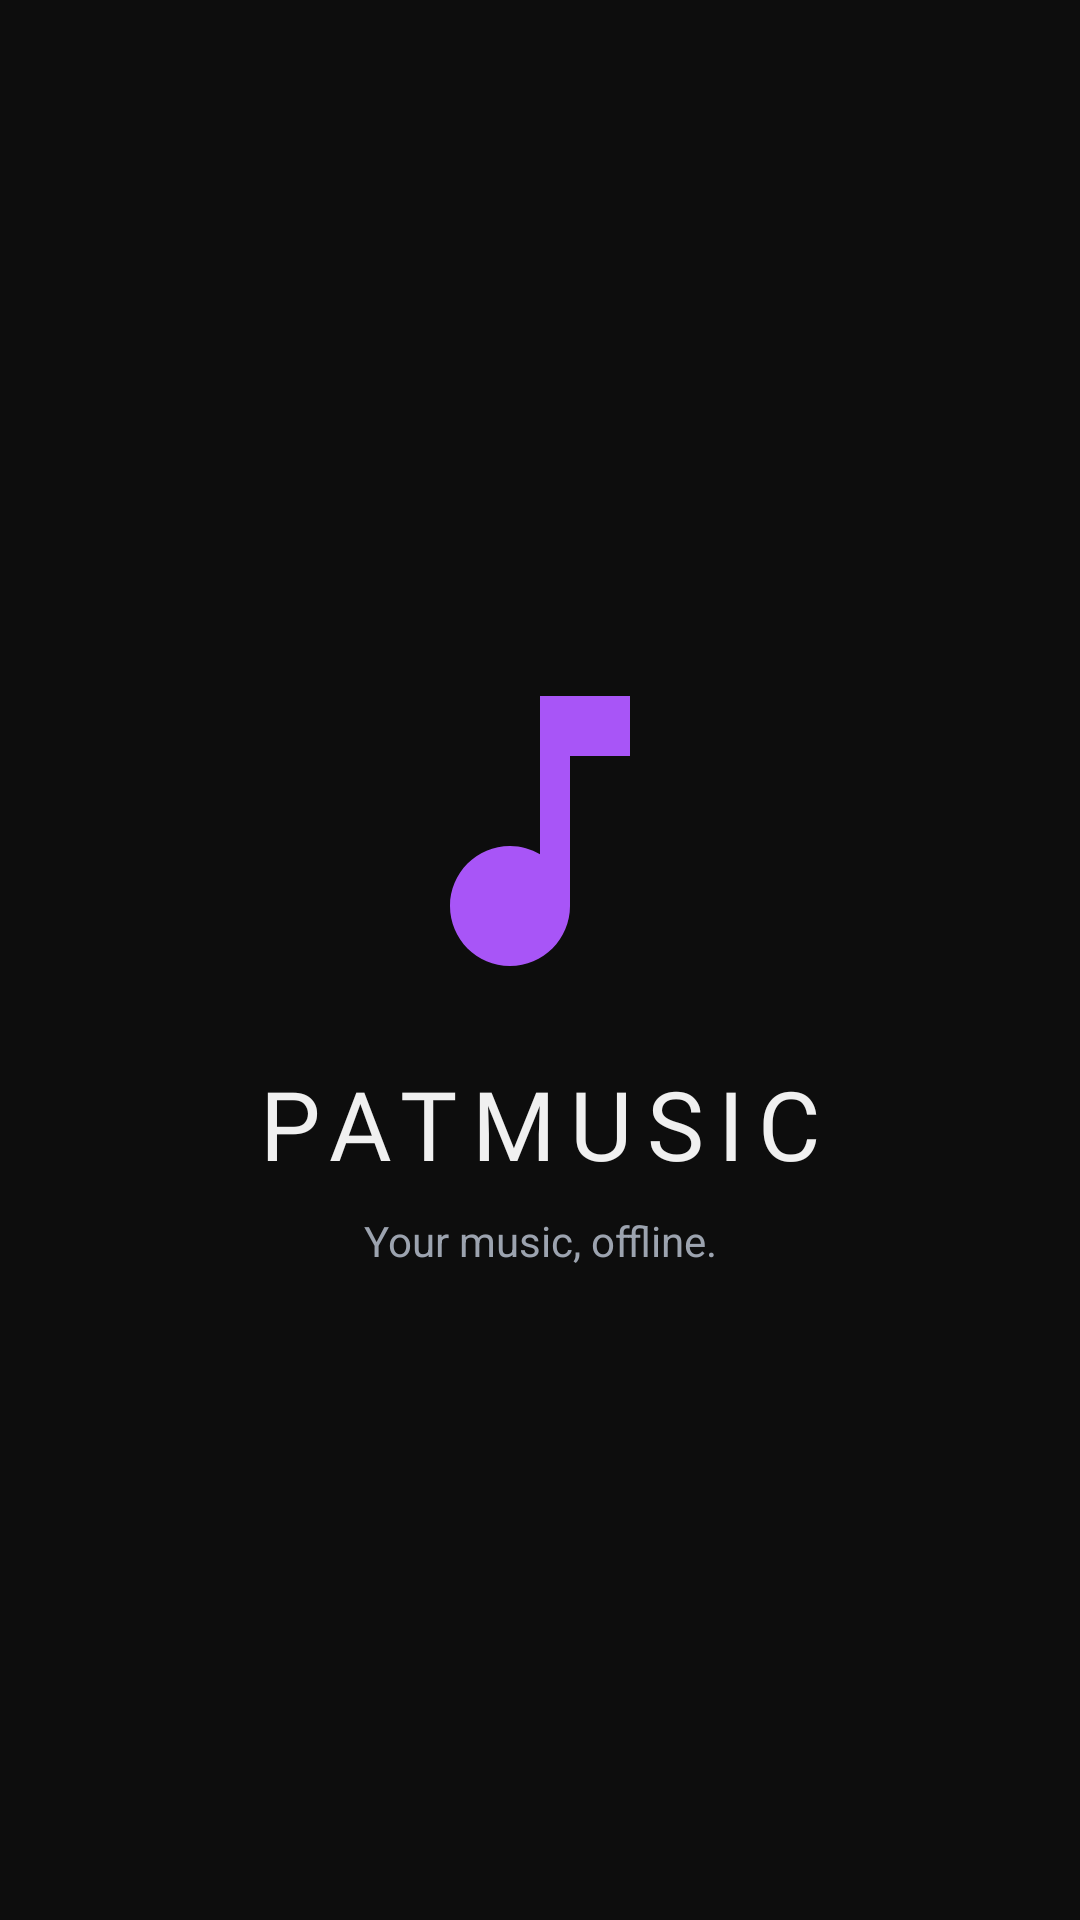

Named icons in this screenshot (1080x1920) and their bounding boxes, (x1, y1, x2, y2):
music note: (450, 696, 630, 966)
